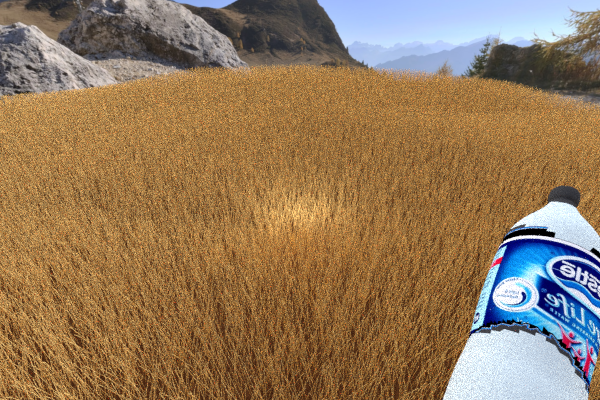bottle: (426, 187, 600, 400)
can: (247, 133, 328, 189), (326, 101, 365, 132)
